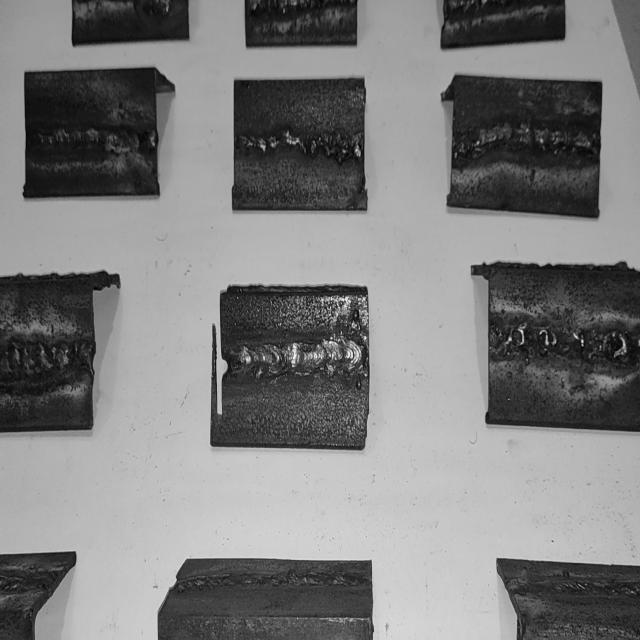Defect: (492, 328, 637, 361), (235, 134, 364, 158), (0, 346, 96, 378)
Welding Line: (488, 322, 636, 364), (454, 120, 596, 163), (226, 334, 362, 374), (0, 339, 94, 382), (27, 125, 154, 155), (238, 130, 365, 160)
Workpiece: (484, 264, 640, 432), (213, 288, 370, 448), (442, 74, 598, 222), (232, 75, 368, 208), (22, 69, 158, 196), (0, 278, 96, 424)
